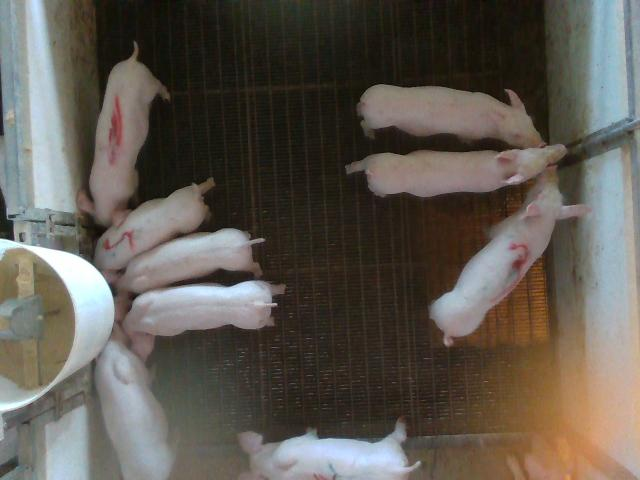pig-1: (76, 42, 170, 226)
pig-3: (429, 165, 590, 346)
pig-5: (94, 178, 215, 272)
